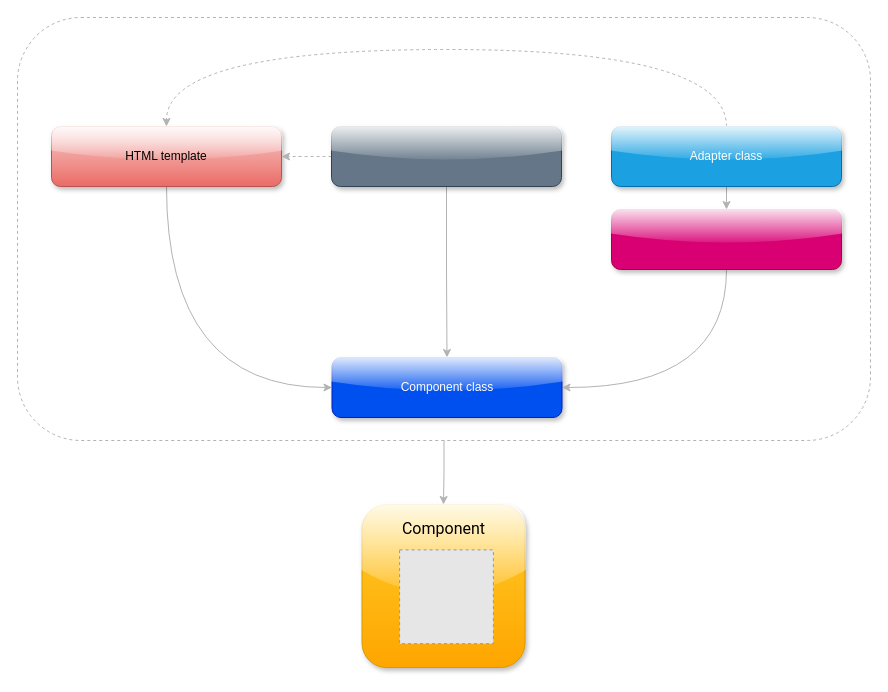
This 888x692 diagram has some shape labels left out. Grey dashed boxes stand in for pictures. Here are the shapes that lost their labels. From the top down, the centre of each, then its label:
At point 447,158: "Sass stylesheet".
At point 727,240: "Foundation class".
